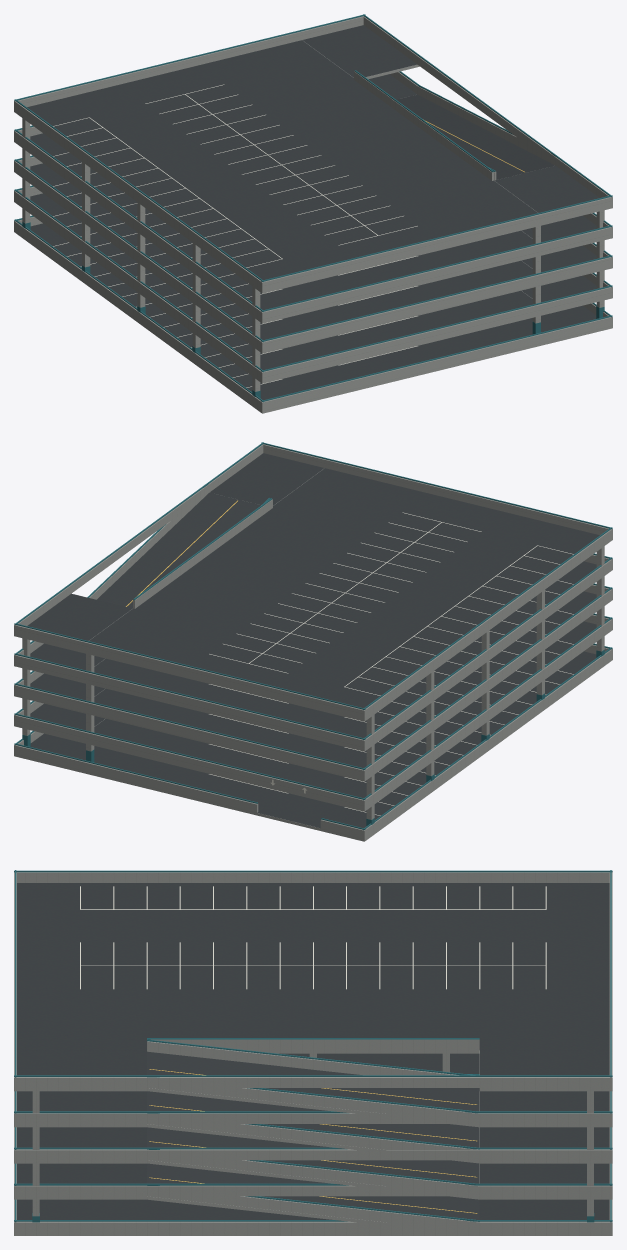
The model's file is medium_05.glb.
3 renders of one model, top to bottom at view 1: azimuth 30°, elevation 25°; view 2: azimuth 150°, elevation 25°; view 3: azimuth 270°, elevation 25°, orthographic. The views are drawn at different scales.
Visible parts, largest first — view 1: medium_05_Asphalt, medium_05_Concrete, medium_05_Teal, medium_05_Paint; view 2: medium_05_Asphalt, medium_05_Concrete, medium_05_Teal, medium_05_Paint; view 3: medium_05_Asphalt, medium_05_Concrete, medium_05_Teal, medium_05_Paint, medium_05_Yellow.
Part boxes in pixels (left/top/right/bottom): medium_05_Asphalt: left=27, top=25, right=599, bottom=400; medium_05_Concrete: left=14, top=16, right=612, bottom=413; medium_05_Teal: left=14, top=14, right=612, bottom=402; medium_05_Paint: left=53, top=84, right=417, bottom=387; medium_05_Asphalt: left=27, top=453, right=599, bottom=828; medium_05_Concrete: left=14, top=444, right=612, bottom=841; medium_05_Teal: left=14, top=442, right=612, bottom=830; medium_05_Paint: left=209, top=512, right=573, bottom=815; medium_05_Asphalt: left=17, top=883, right=609, bottom=1219; medium_05_Concrete: left=14, top=872, right=612, bottom=1235; medium_05_Teal: left=14, top=870, right=612, bottom=1222; medium_05_Paint: left=80, top=886, right=546, bottom=989; medium_05_Yellow: left=149, top=1069, right=477, bottom=1213.
Bounding box in the file's own units: 44 × 15.88 × 54.02.
Materials: 6 (2 with a texture image).
